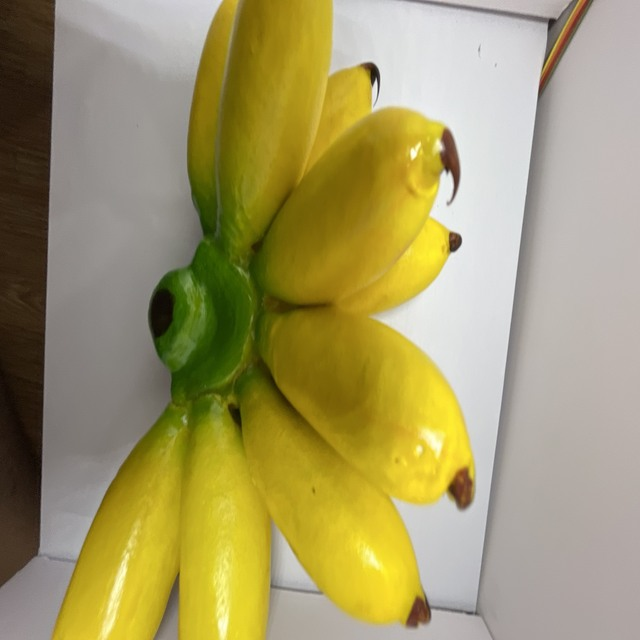Chuoi: (44, 0, 487, 640)
